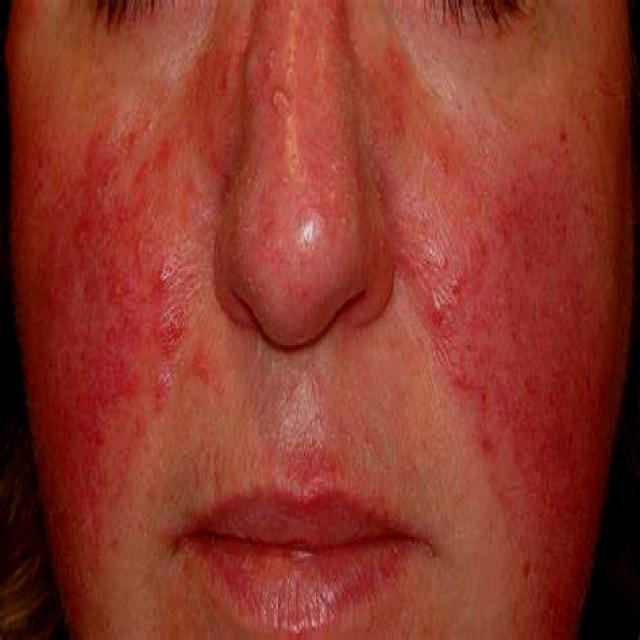Rosacea: (378, 117, 630, 640), (0, 120, 212, 626), (242, 0, 349, 266)
